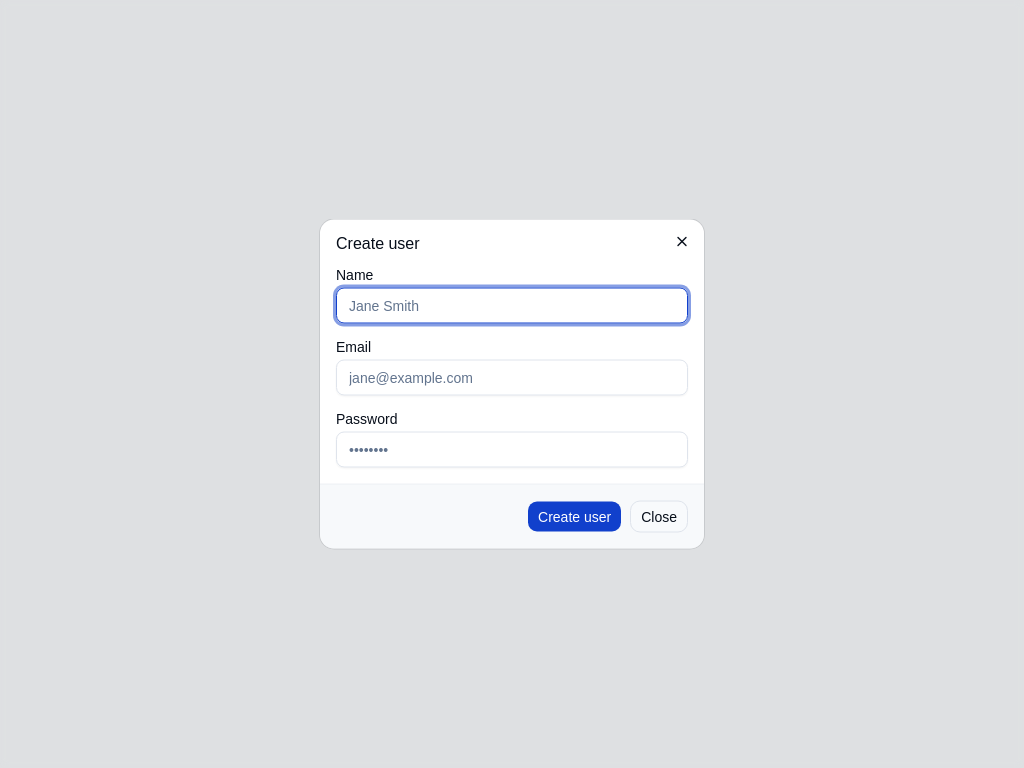
Test: UserDialog — create mode — validation › shows required errors for all empty fields on submit
Click the button "Create user" at x=575, y=516, box x1=527 y1=500 x2=622 y2=532
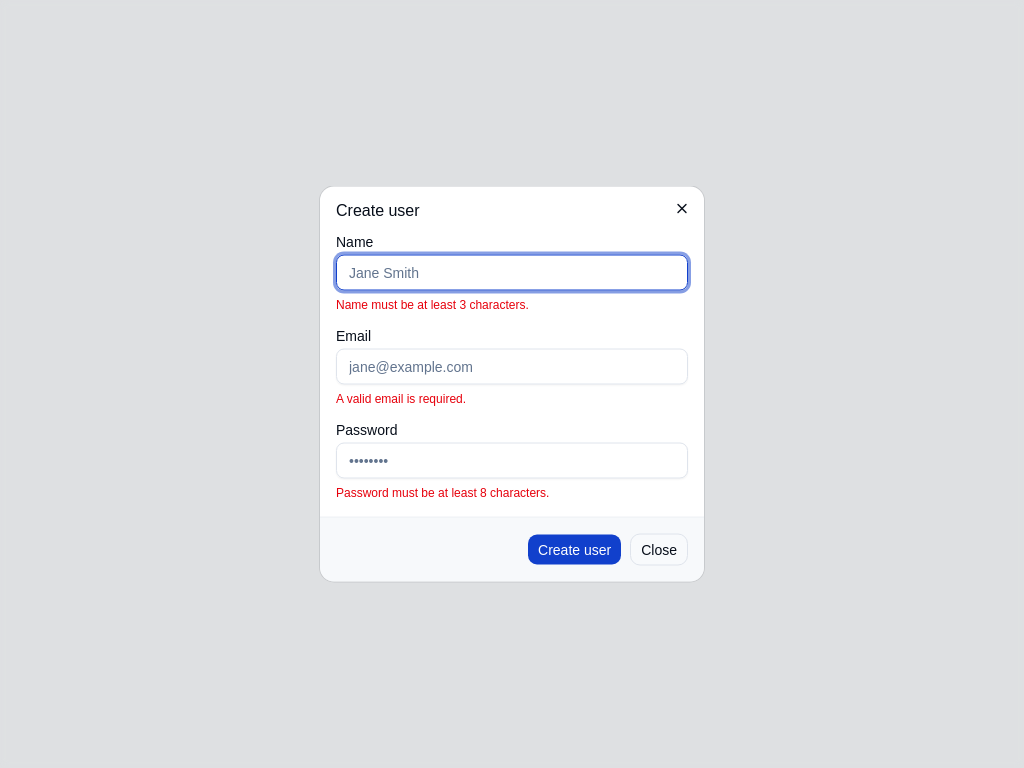
Expected: the text "Name must be at least 3 characters." is shown, x1=336 y1=298 x2=529 y2=312
Expected: the text "A valid email is required." is shown, x1=336 y1=392 x2=466 y2=406
Expected: the text "Password must be at least 8 characters." is shown, x1=336 y1=486 x2=549 y2=500
